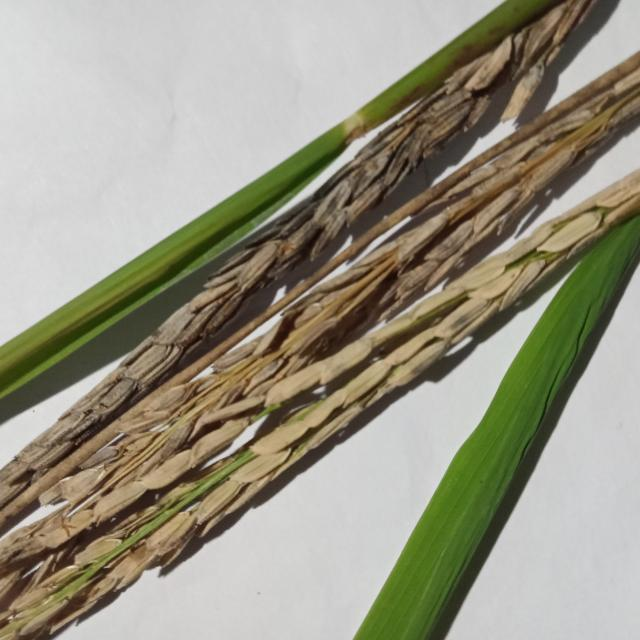Neck_Blast: (0, 0, 640, 640)
